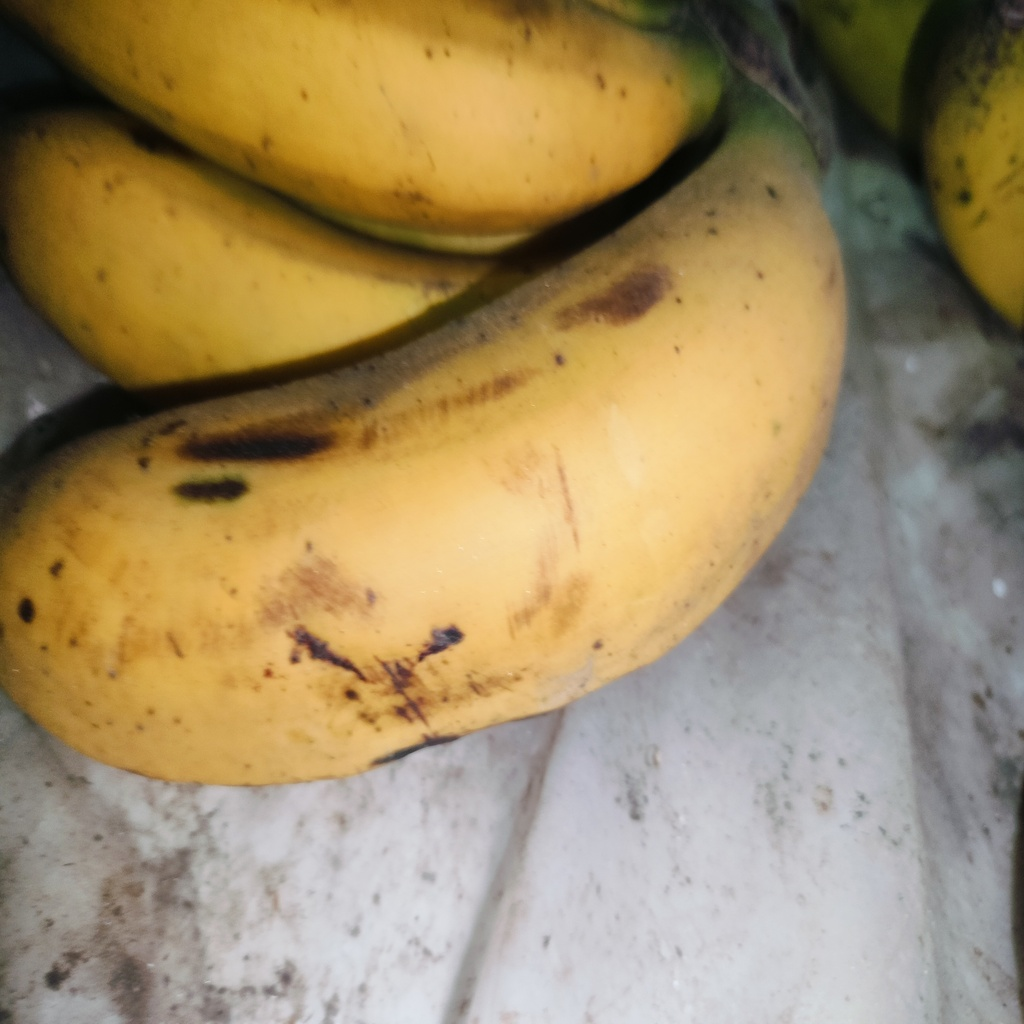healthy: (1, 173, 846, 777)
